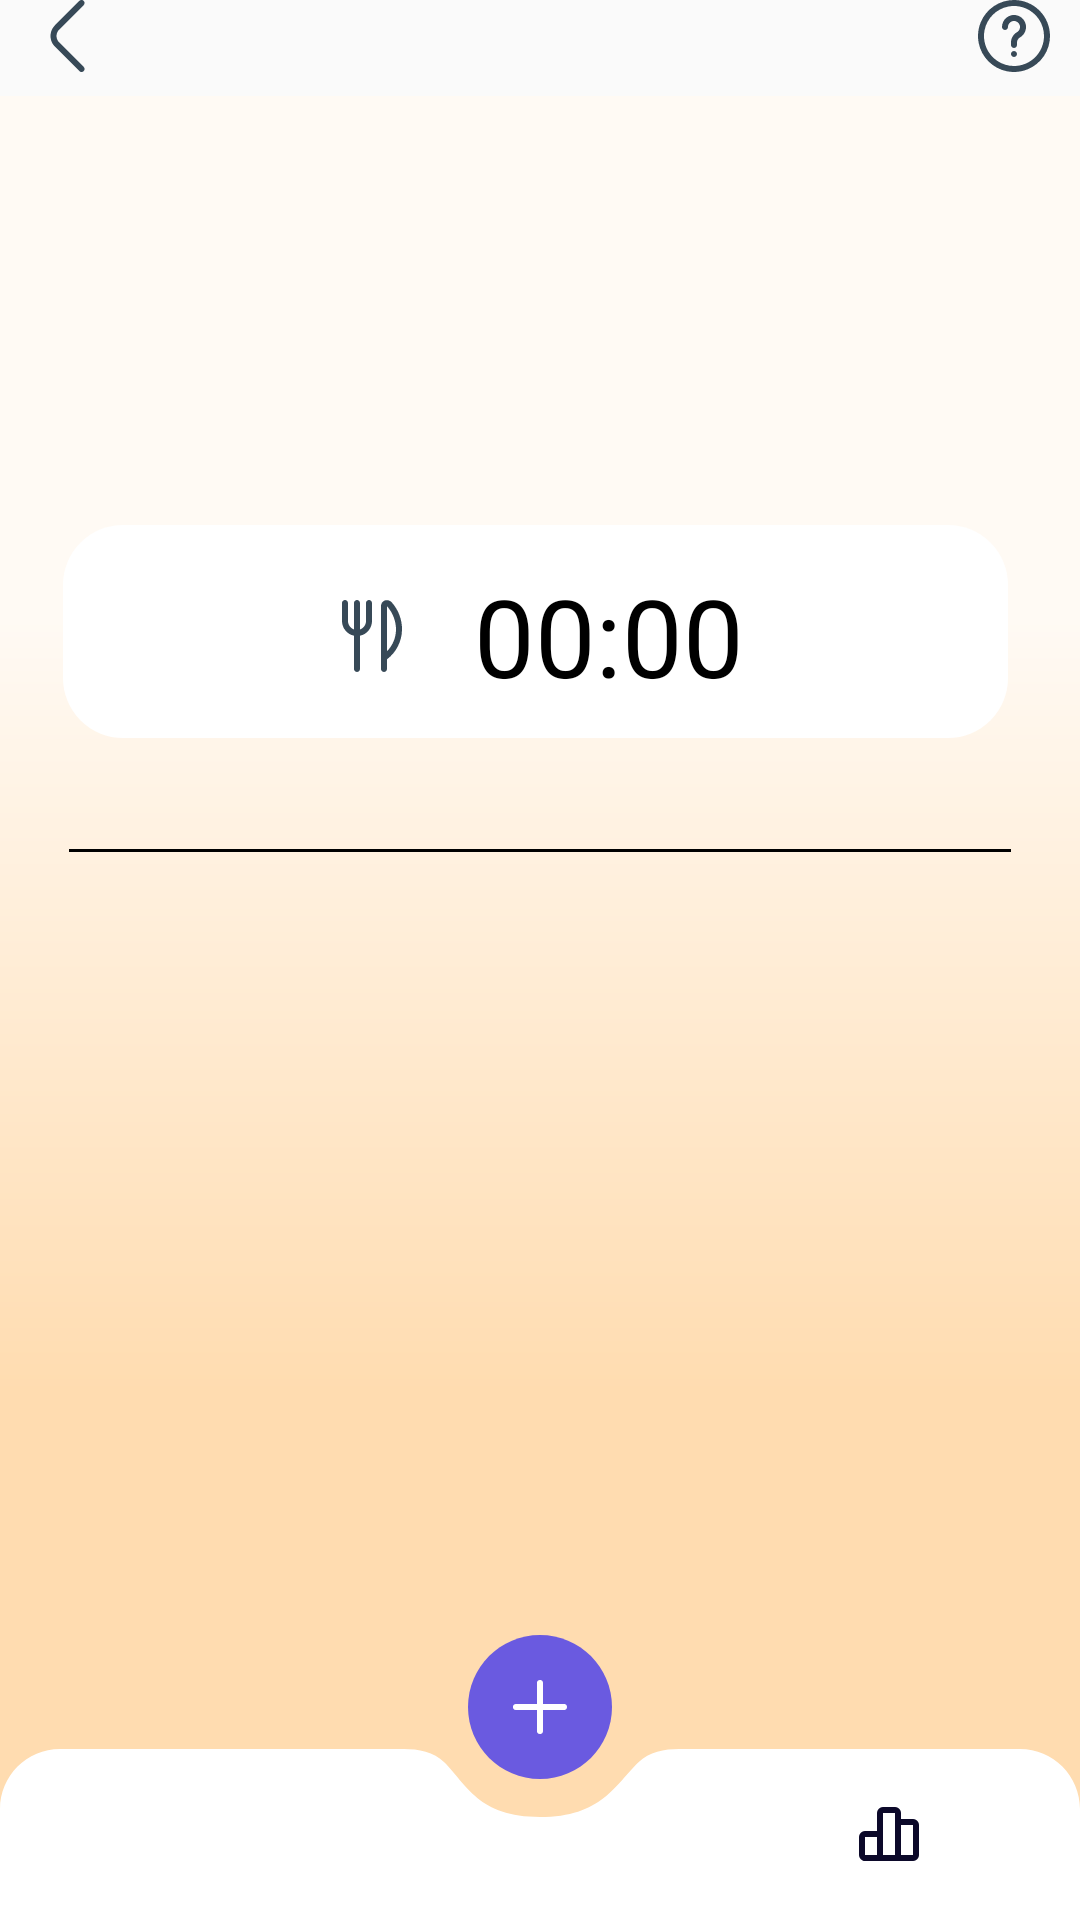

Screen size 1080 x 1920. Icon name, then its center in pixels as (x=x, y=y):
advice: (x=1014, y=36)
back: (x=67, y=36)
fork: (x=372, y=636)
ranking: (x=889, y=1834)
